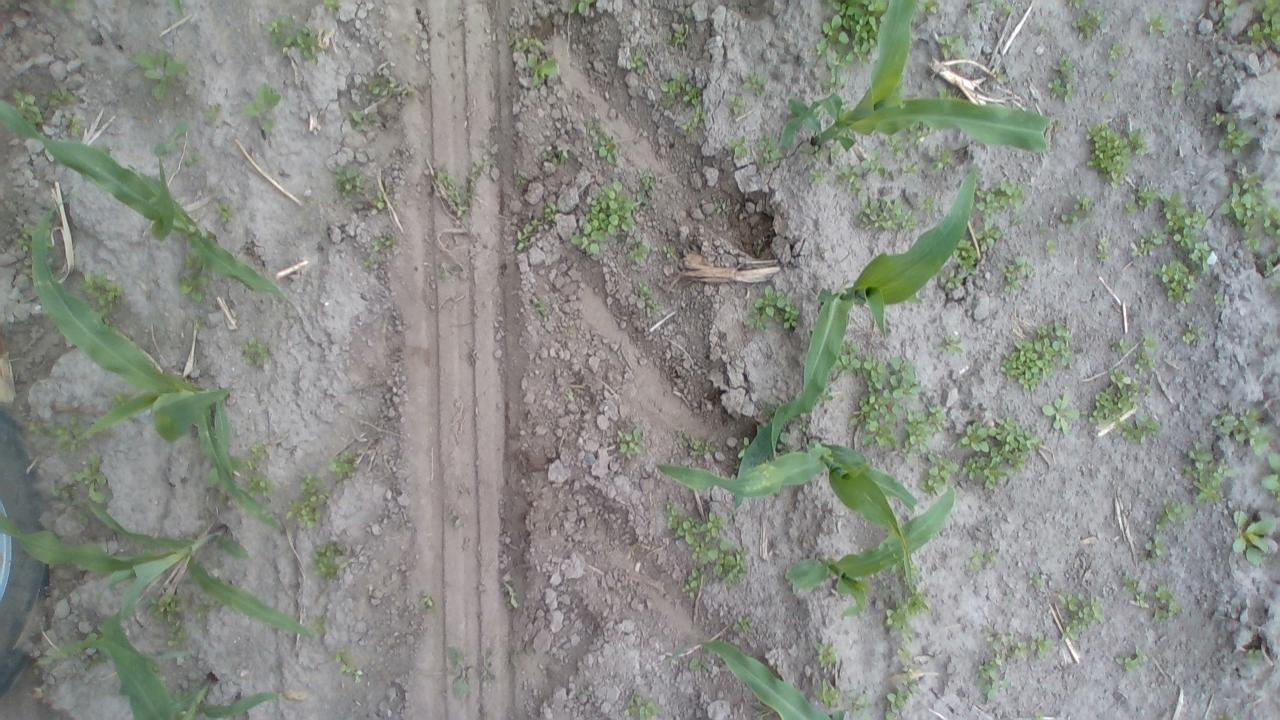Maize: (730, 166, 977, 518), (32, 195, 284, 535), (0, 98, 278, 295), (0, 490, 312, 662), (780, 0, 1048, 153), (656, 437, 919, 588), (783, 484, 956, 622), (105, 605, 279, 720), (658, 640, 836, 720)
Weeds: (840, 339, 918, 453), (959, 416, 1040, 490), (1213, 166, 1280, 252), (999, 319, 1077, 391), (566, 179, 637, 256), (980, 625, 1048, 703), (1087, 119, 1149, 187), (682, 540, 747, 602), (818, 0, 878, 63), (1159, 190, 1211, 260), (1181, 439, 1236, 501), (1090, 371, 1154, 422), (1214, 402, 1270, 454), (742, 285, 800, 335), (658, 66, 704, 129), (268, 12, 324, 63), (662, 499, 723, 545), (133, 49, 185, 100), (1232, 510, 1280, 565), (884, 648, 920, 720), (1051, 590, 1105, 638), (284, 474, 330, 528), (881, 592, 930, 640), (145, 594, 186, 650), (1153, 262, 1196, 312), (902, 400, 948, 446), (242, 83, 284, 133), (434, 164, 471, 218), (856, 198, 915, 231), (514, 201, 554, 249), (1243, 0, 1280, 51), (974, 178, 1025, 214), (178, 252, 212, 306), (916, 454, 958, 494), (80, 272, 126, 308), (1044, 390, 1080, 433), (1152, 499, 1195, 533), (76, 452, 105, 502), (447, 646, 471, 703), (363, 73, 413, 99), (622, 690, 664, 720), (975, 216, 1007, 255), (610, 426, 646, 460), (152, 116, 185, 152), (590, 124, 618, 166), (1059, 194, 1094, 227), (1004, 253, 1032, 294), (1047, 53, 1073, 97), (314, 542, 344, 579), (12, 90, 44, 124), (1128, 226, 1162, 257), (528, 53, 558, 88), (934, 26, 966, 58), (1219, 122, 1249, 156), (240, 333, 270, 367), (1113, 644, 1149, 672), (47, 416, 78, 448), (834, 164, 864, 197), (1152, 585, 1182, 618), (1115, 419, 1160, 441), (812, 639, 844, 667), (334, 164, 360, 198), (1072, 8, 1100, 39), (1261, 451, 1280, 492), (640, 283, 665, 314), (742, 72, 769, 100), (954, 242, 979, 272), (1125, 574, 1148, 606), (846, 694, 873, 720), (329, 453, 357, 478), (967, 548, 993, 574), (812, 678, 839, 703), (201, 100, 226, 126), (333, 646, 356, 674), (248, 442, 271, 470), (804, 144, 840, 161), (756, 136, 776, 166), (1142, 535, 1166, 560), (933, 334, 966, 352), (722, 94, 746, 118), (212, 197, 235, 222), (1180, 320, 1200, 348), (16, 222, 34, 252), (542, 145, 569, 165), (860, 150, 884, 172), (686, 656, 712, 676), (529, 293, 549, 319), (1214, 0, 1231, 30), (515, 34, 543, 52), (247, 475, 271, 496), (1189, 77, 1214, 97), (904, 130, 931, 148), (934, 146, 954, 170), (1266, 252, 1280, 286), (729, 137, 748, 162), (639, 168, 660, 190), (828, 65, 844, 93), (46, 86, 74, 102), (690, 436, 710, 458), (806, 164, 824, 188), (939, 270, 963, 288), (675, 24, 692, 49), (627, 242, 648, 262), (733, 614, 752, 636), (370, 236, 393, 254), (56, 482, 76, 502), (628, 48, 644, 72), (1108, 336, 1129, 354), (24, 418, 42, 439), (504, 581, 518, 608), (1132, 349, 1150, 370), (367, 194, 386, 213), (1210, 110, 1230, 128), (1148, 14, 1166, 34), (567, 0, 591, 15), (916, 193, 936, 210), (886, 134, 902, 155), (1096, 241, 1110, 265), (1137, 188, 1152, 210), (47, 0, 77, 11), (961, 0, 982, 15), (184, 148, 200, 167), (918, 1, 938, 16), (1171, 73, 1183, 97), (310, 615, 326, 633), (67, 116, 82, 135), (1140, 334, 1160, 348), (232, 452, 244, 475), (193, 603, 212, 617), (450, 509, 463, 529), (350, 109, 367, 124), (1026, 573, 1044, 587), (1046, 237, 1058, 258), (1123, 198, 1139, 212), (1248, 646, 1264, 660), (902, 160, 918, 174), (714, 197, 728, 213), (173, 0, 186, 17), (993, 73, 1011, 85), (362, 255, 376, 268), (1216, 710, 1234, 720), (322, 0, 340, 10), (513, 174, 529, 185), (662, 242, 673, 258), (422, 594, 434, 608), (1000, 4, 1011, 18), (1111, 43, 1125, 54), (1102, 93, 1117, 102), (987, 0, 1000, 10), (1066, 0, 1084, 7), (1214, 294, 1224, 306), (1110, 68, 1120, 77)
